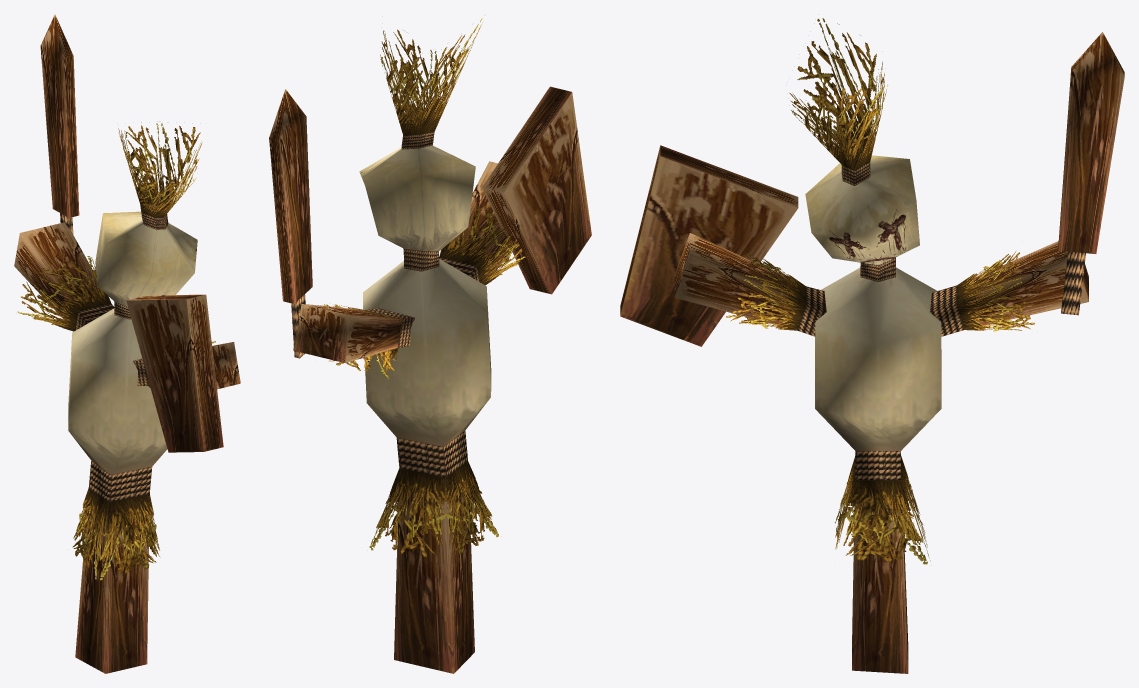
The model's file is stormwindwoodendummy01.obj.
3 renders of one model, left to right at view 1: azimuth 30°, elevation 25°; view 2: azimuth 150°, elevation 25°; view 3: azimuth 270°, elevation 25°, orthographic. The views are drawn at different scales.
Parts seen in each view (by area): view 1: stormwindwoodendummy01.m2; view 2: stormwindwoodendummy01.m2; view 3: stormwindwoodendummy01.m2.
Boxes of the visible parts, x1,y1,x2,y2 form: stormwindwoodendummy01.m2: [14, 14, 240, 673]; stormwindwoodendummy01.m2: [269, 18, 591, 673]; stormwindwoodendummy01.m2: [620, 18, 1124, 673].
Size of the model in its own units: 0.5759 by 2.53 by 1.78.
Materials: 1 (1 with a texture image).
